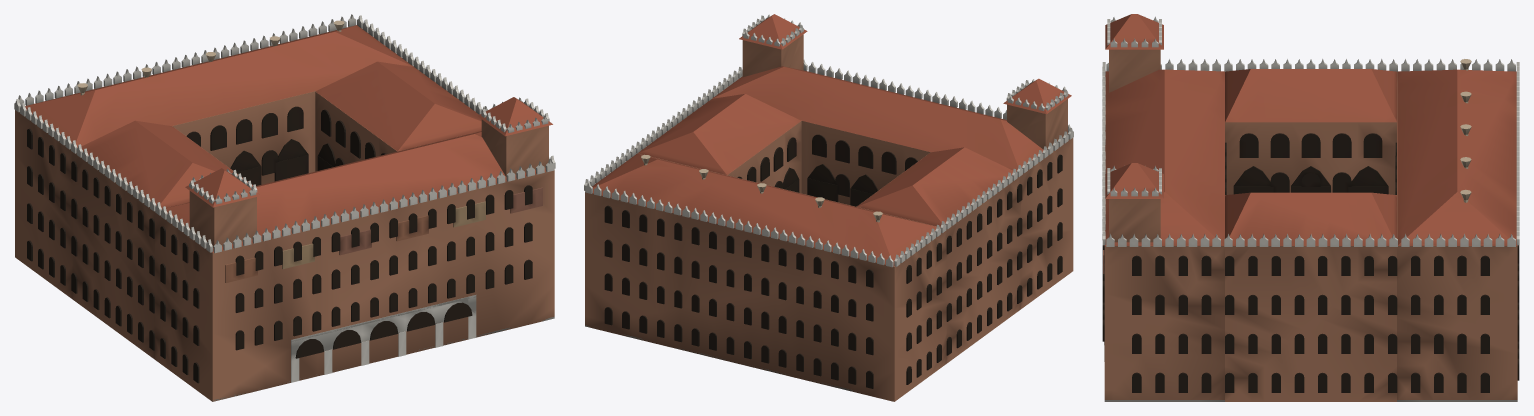
Rendered from fondaco.glb.
3 views of the same model, side by side, from view 1: azimuth 30°, elevation 25°; view 2: azimuth 150°, elevation 25°; view 3: azimuth 270°, elevation 25° (orthographic). The views are drawn at different scales.
Parts seen in each view (by area): view 1: p0_walls, p2_roofs, p1_facades; view 2: p0_walls, p2_roofs, p1_facades; view 3: p0_walls, p2_roofs, p1_facades.
Part boxes in pixels (<box>): p0_walls: <box>15,27,554,401</box>; p2_roofs: <box>25,20,552,252</box>; p1_facades: <box>14,14,555,383</box>; p0_walls: <box>585,105,1073,401</box>; p2_roofs: <box>592,14,1071,266</box>; p1_facades: <box>584,59,1073,388</box>; p0_walls: <box>1104,71,1517,401</box>; p2_roofs: <box>1104,14,1517,245</box>; p1_facades: <box>1102,59,1519,392</box>.
Size of the model in its own units: 48.45 by 29.02 by 48.47.
